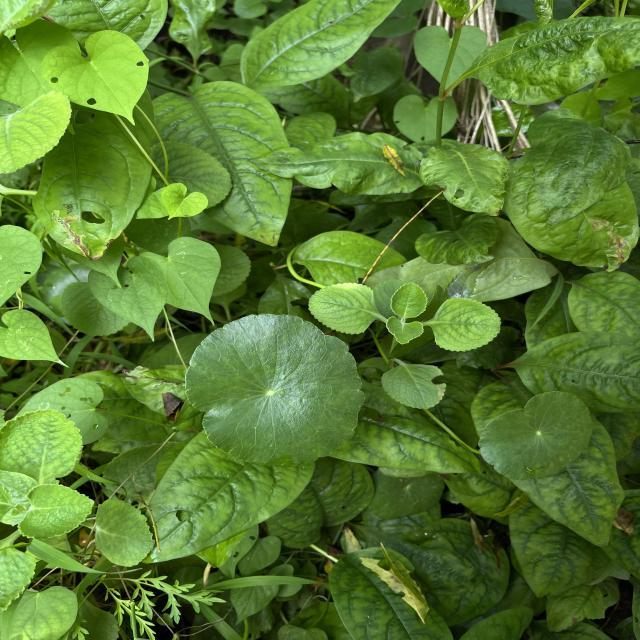Bacopa monnieri: (182, 311, 368, 470), (476, 388, 596, 482)
